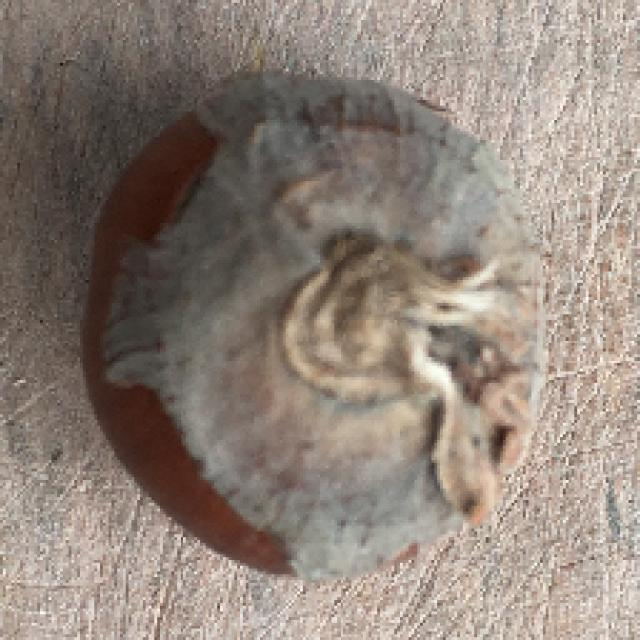damagedHazelnut: (80, 57, 552, 602)
